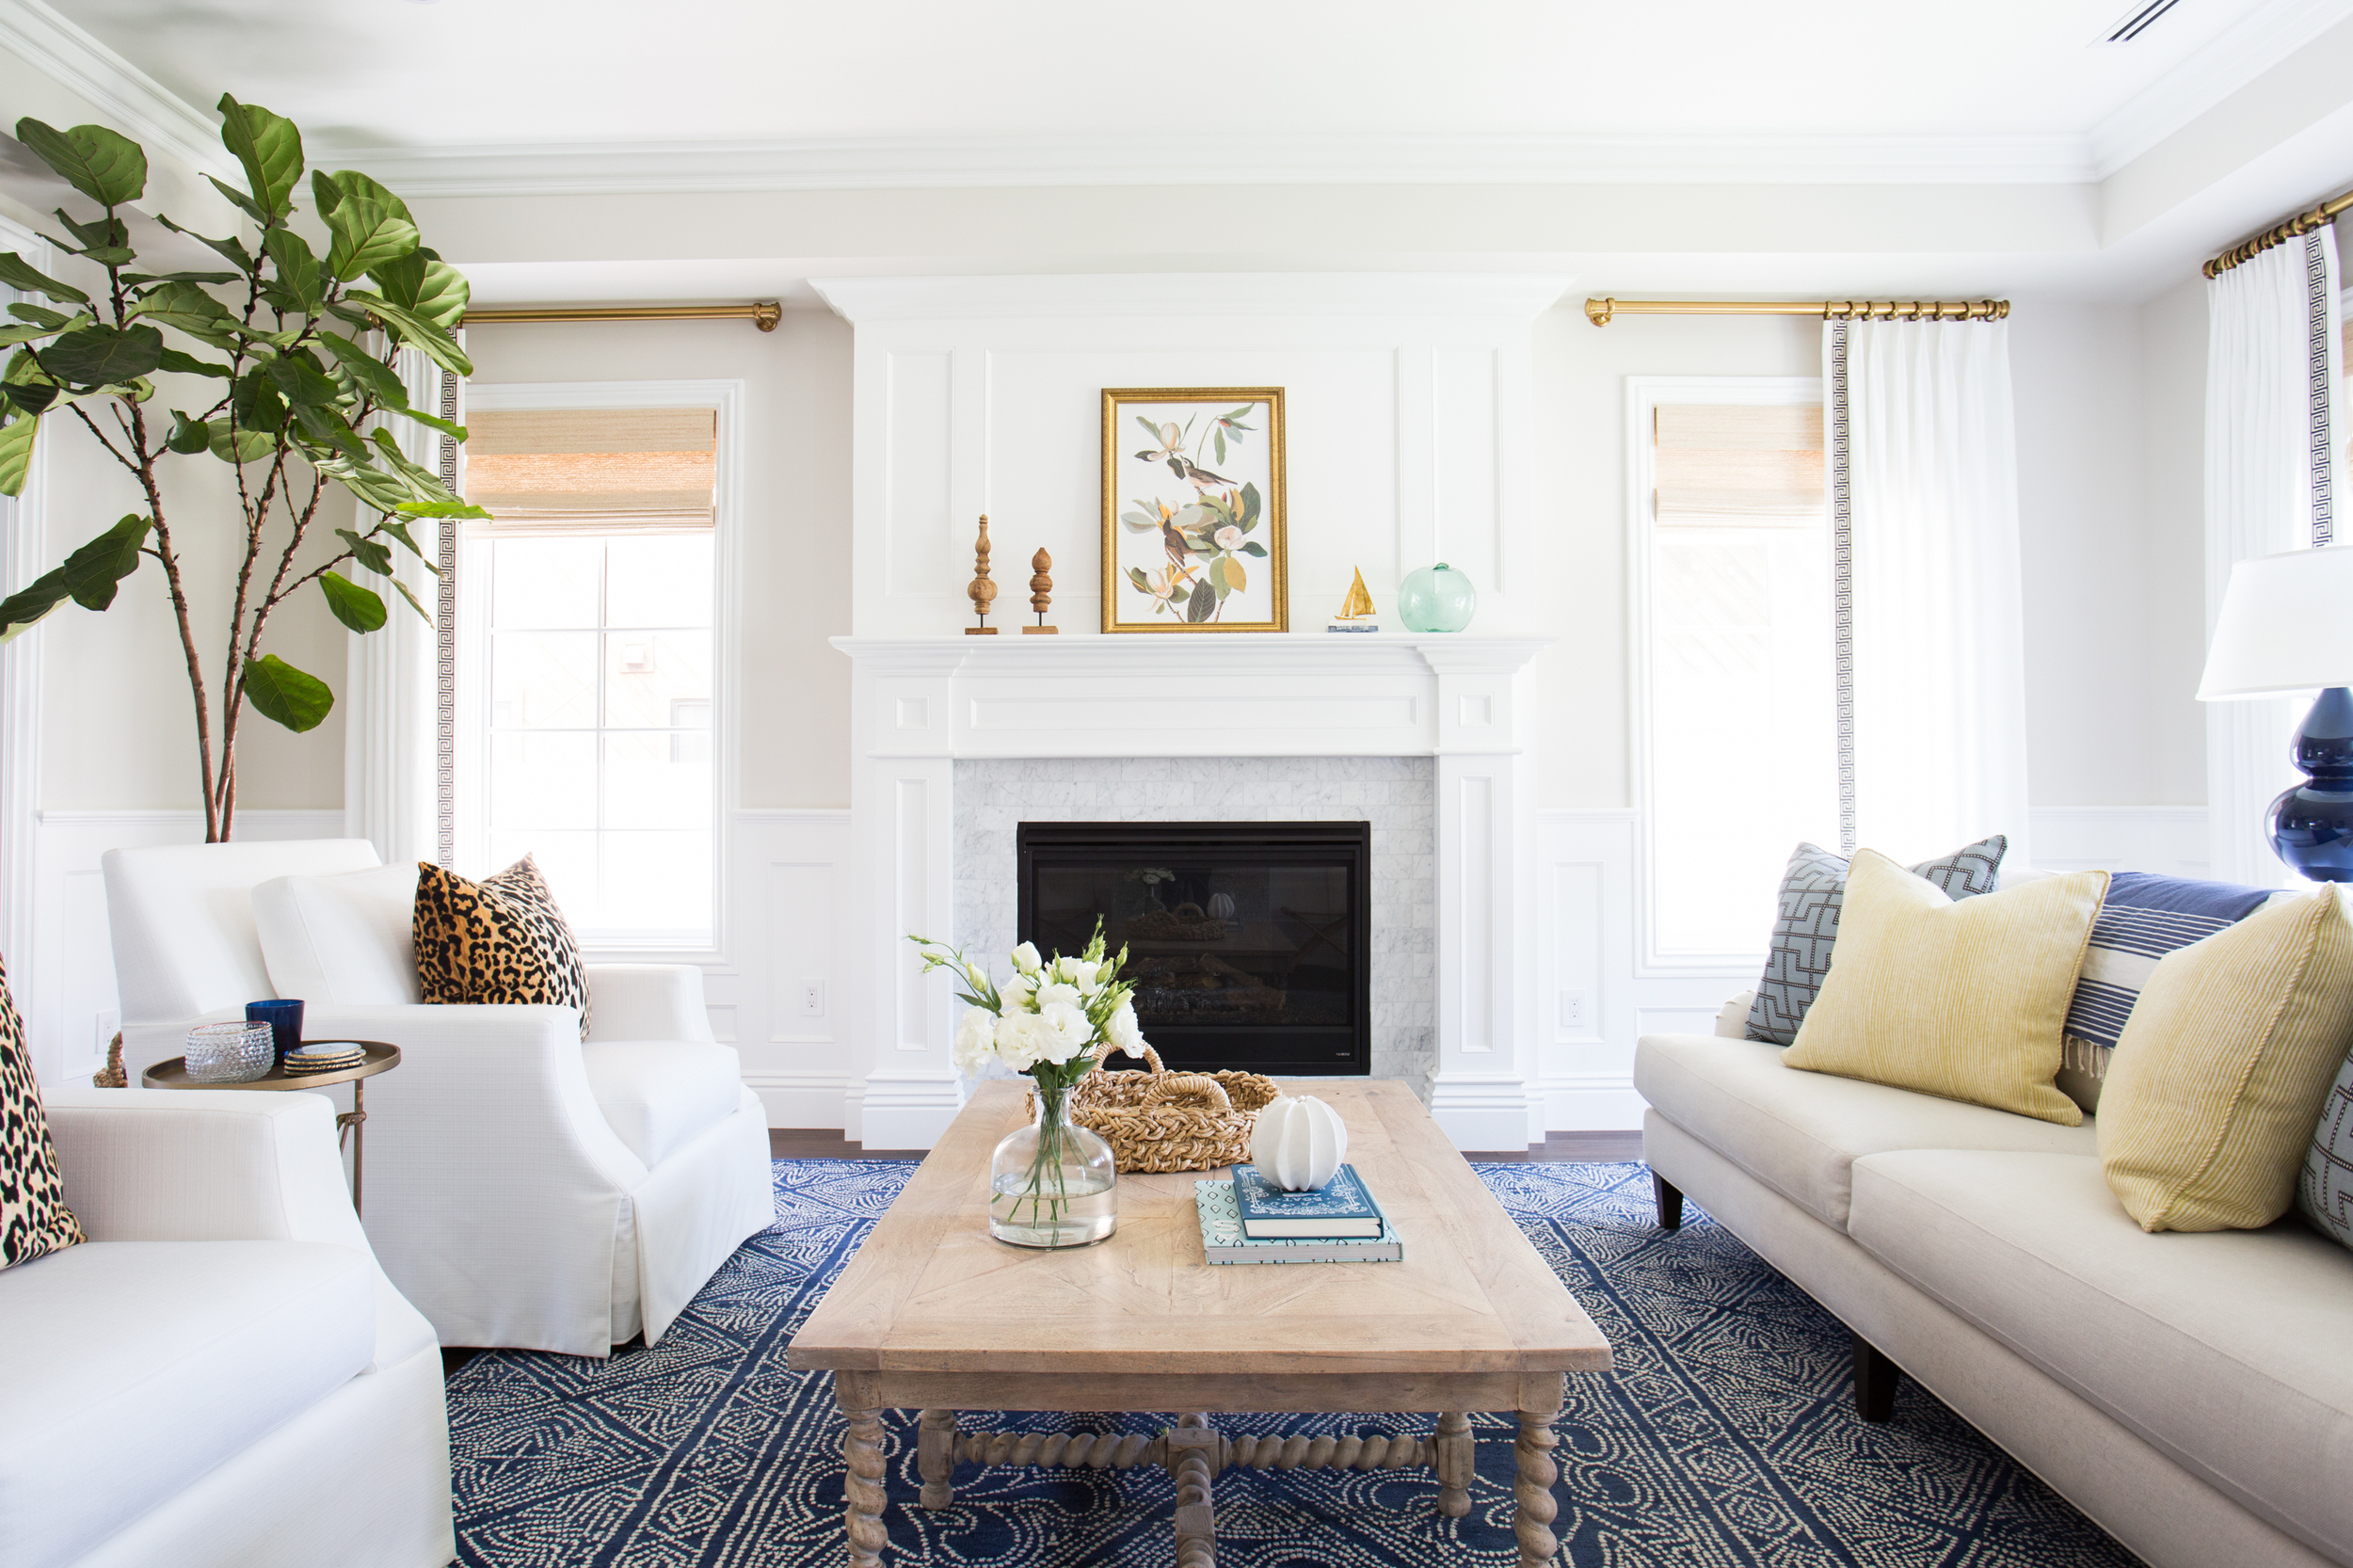chair: (103, 815, 780, 1361), (0, 968, 465, 1568)
flower vase: (897, 903, 1174, 1255)
large plant: (0, 75, 488, 843)
sofa: (1623, 824, 2353, 1564)
table: (791, 1064, 1620, 1561)
table lamp: (2197, 539, 2353, 877)
wall art: (1092, 373, 1296, 640)
